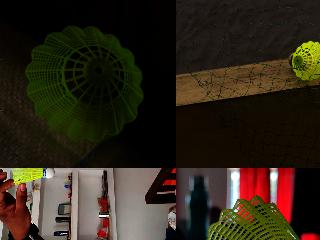shuttlecock: (25, 26, 143, 142), (194, 194, 319, 239), (288, 40, 319, 80), (12, 168, 55, 185)
